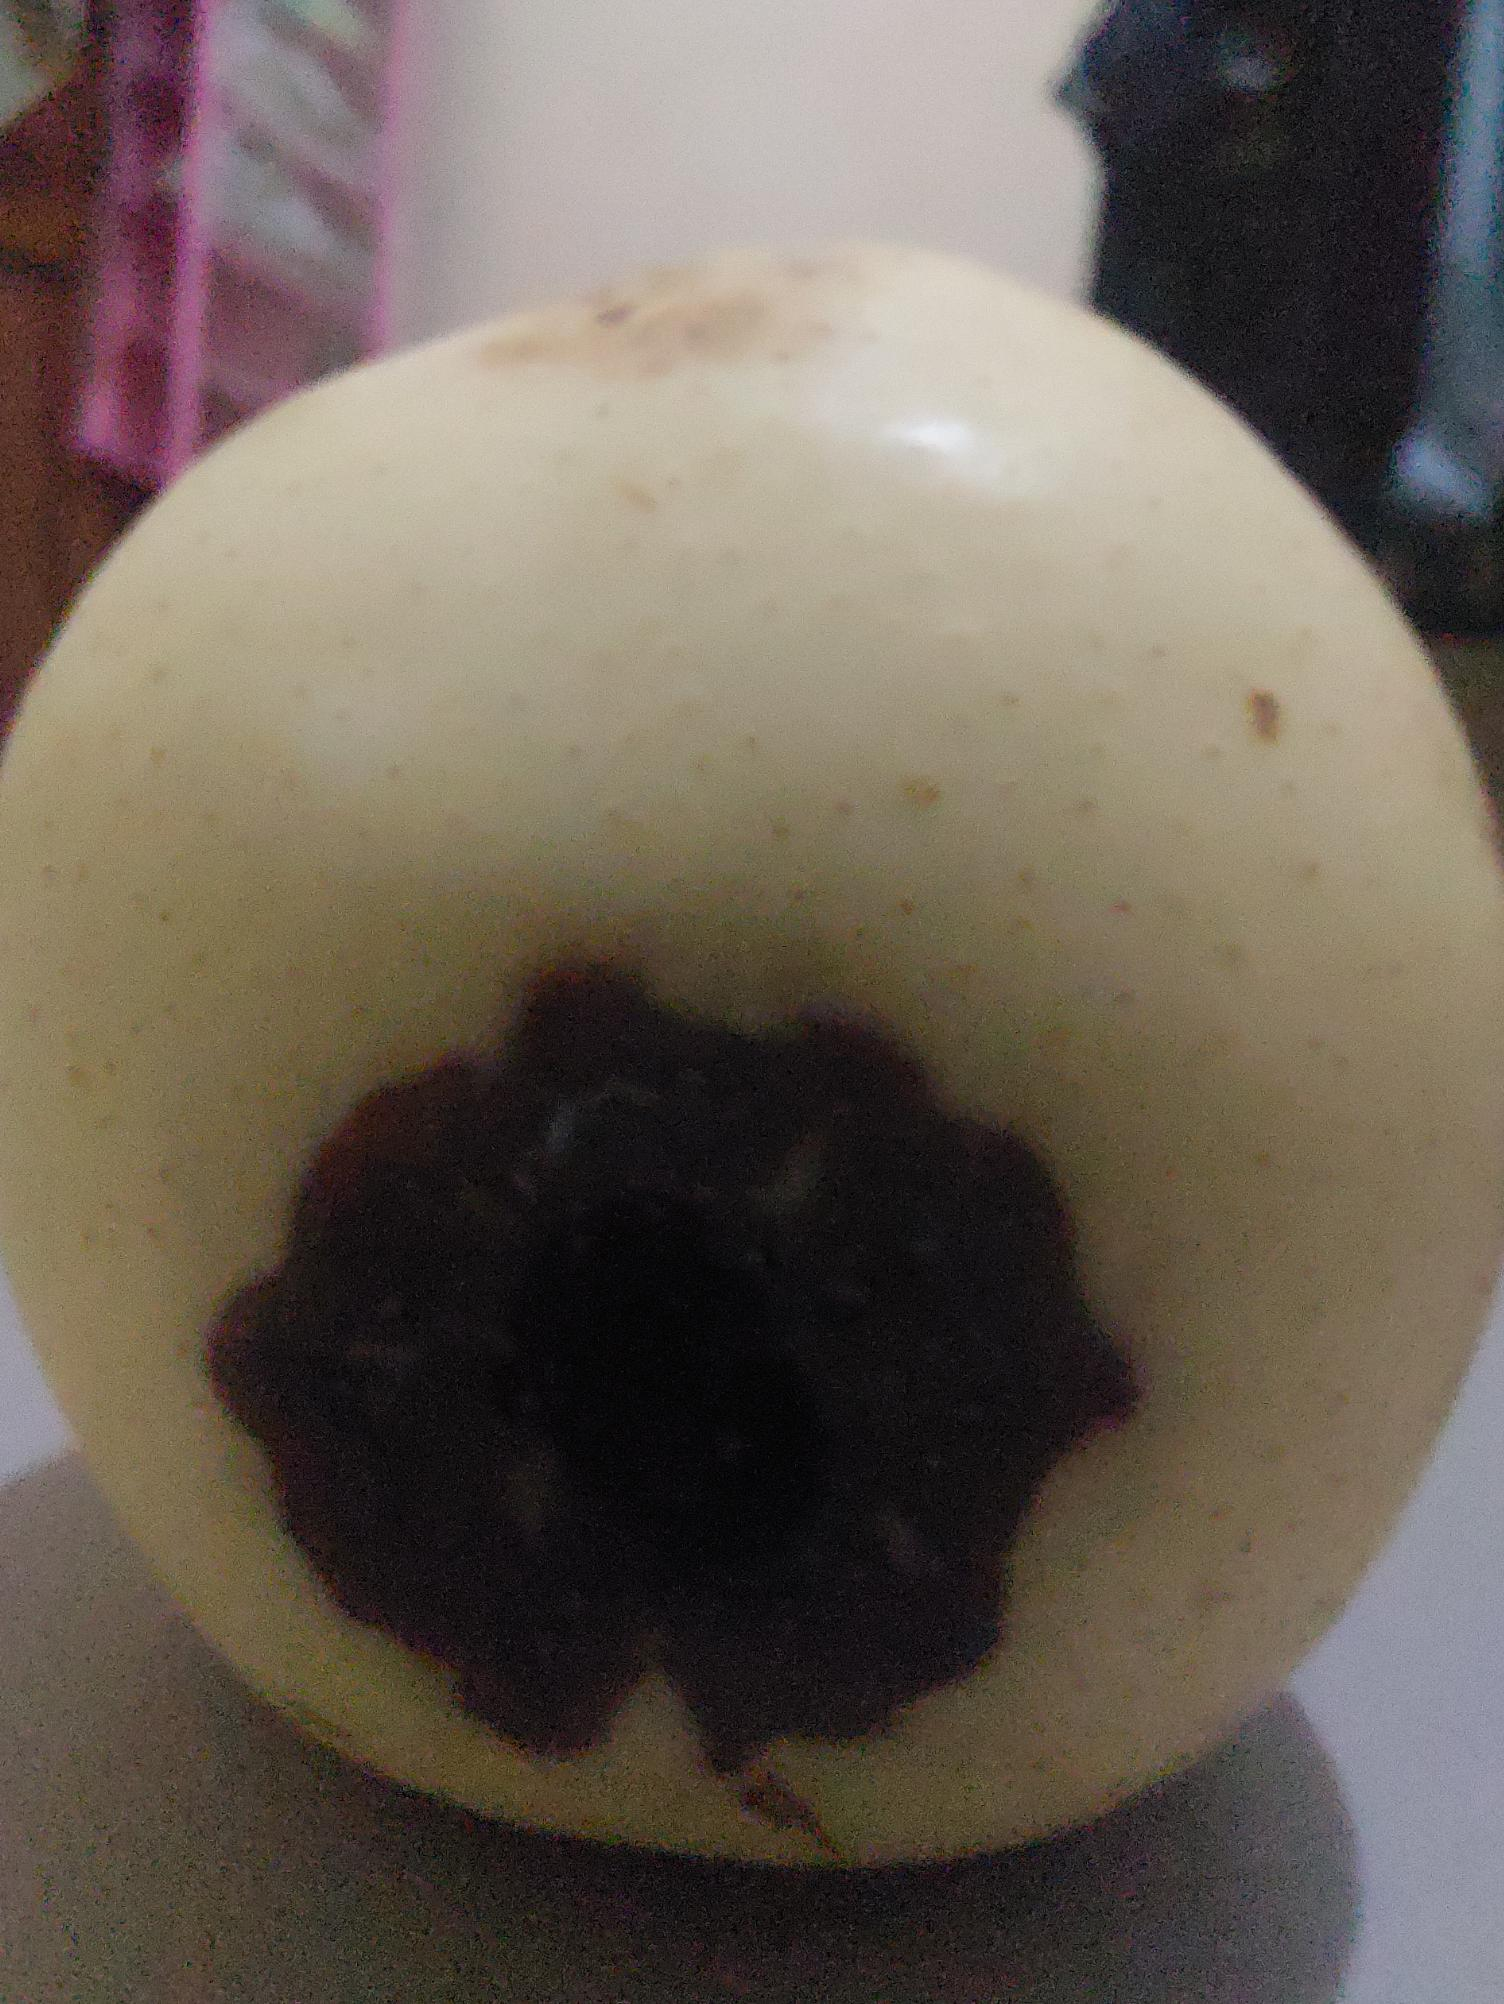Bad Pear: (0, 210, 1504, 1898)
